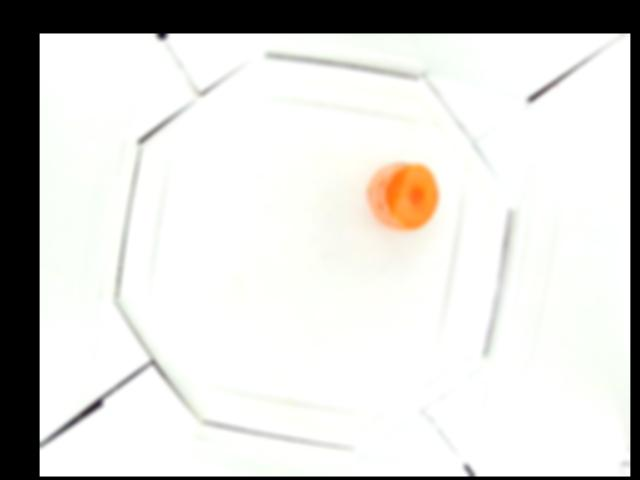Carrot: (367, 161, 438, 230)
